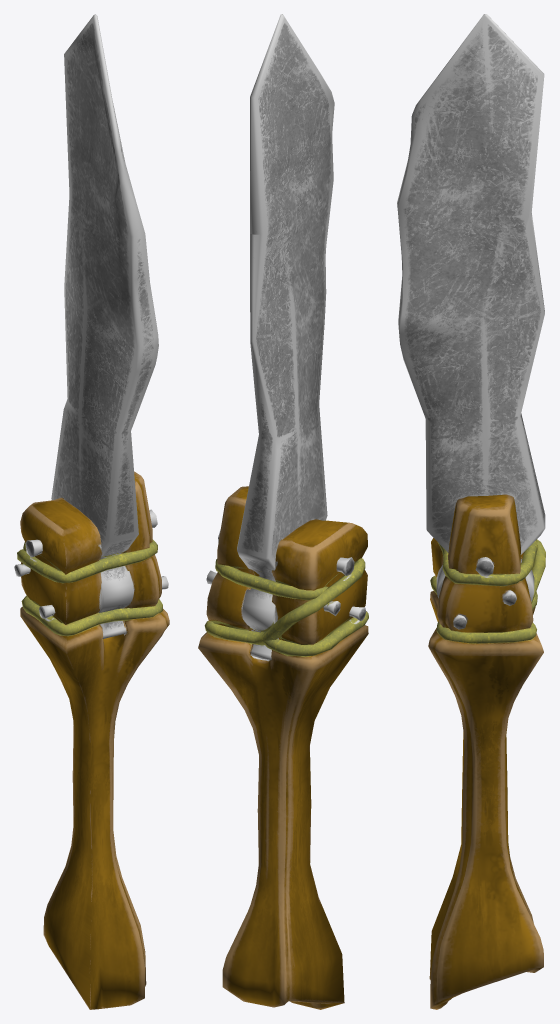
The model's file is Knife.fbx.
3 renders of one model, left to right at view 1: azimuth 30°, elevation 25°; view 2: azimuth 150°, elevation 25°; view 3: azimuth 270°, elevation 25°, orthographic. The views are drawn at different scales.
Parts seen in each view (by area): view 1: KnifeL; view 2: KnifeL; view 3: KnifeL.
Boxes of the visible parts, x1=… form: KnifeL: x1=14, y1=14, x2=169, y2=1009; KnifeL: x1=198, y1=14, x2=368, y2=1009; KnifeL: x1=397, y1=14, x2=545, y2=1009.
Bounding box in the file's own units: 6.51 × 49.13 × 6.69.
